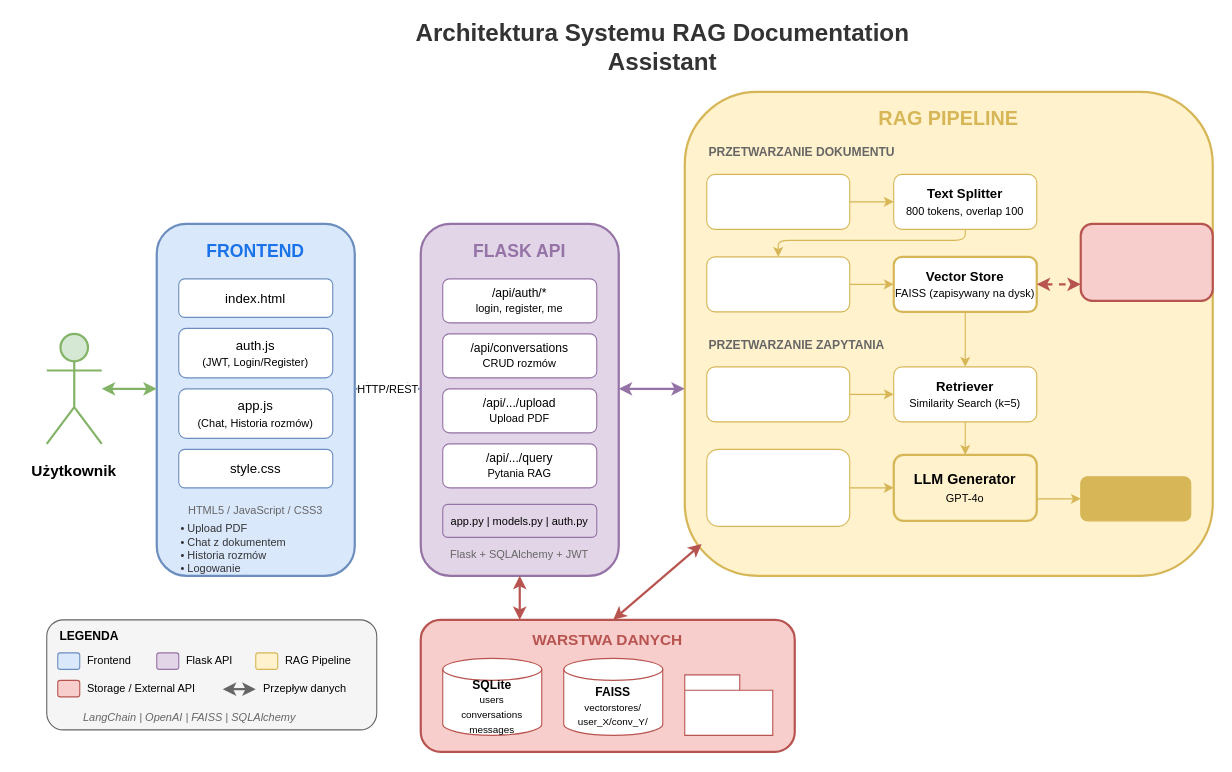
This 1232x772 diagram has some shape labels left out. The centre of each missing label's shape, as x and y in pixels:
Embeddings text-embedding-3-large: the point at 778,284
Odpowiedź + Źródła: the point at 1135,498
OpenAI API • Embeddings • Chat Completions: the point at 1146,261
PDF Processor PyMuPDF: the point at 778,201
Prompt Templates • factual • procedural • troubleshooting: the point at 778,487
Query Classifier GPT-4o: the point at 778,394
uploads/ pliki PDF: the point at 728,704
